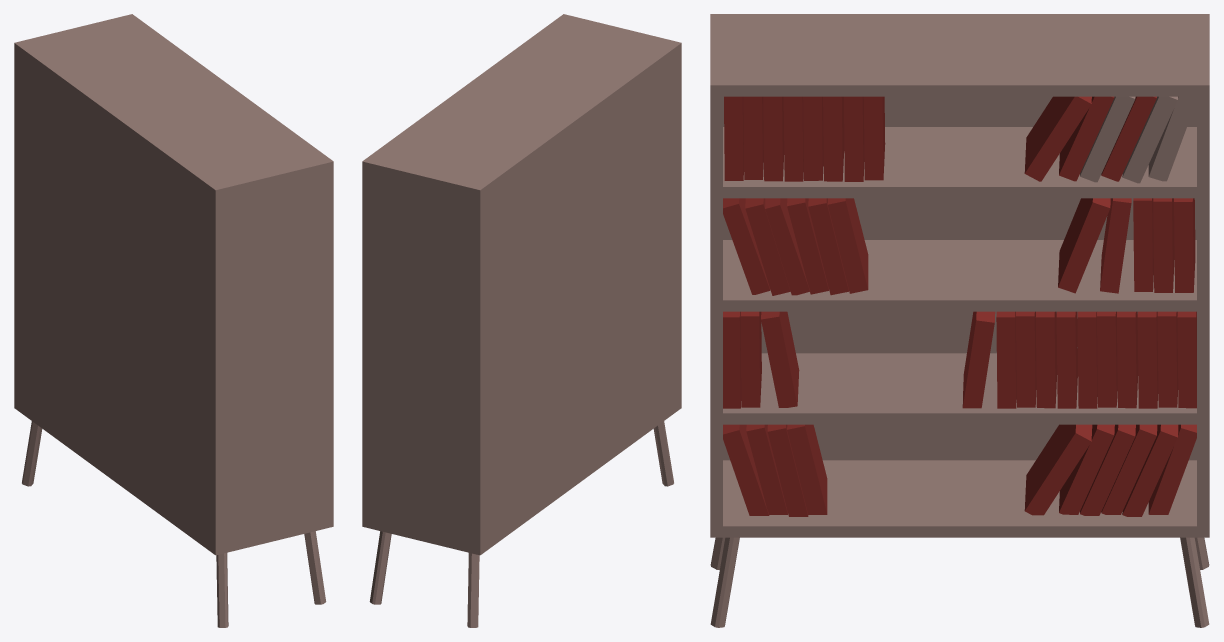
The model's file is BookShelf.fbx.
3 views of the same model, side by side, from view 1: azimuth 30°, elevation 25°; view 2: azimuth 150°, elevation 25°; view 3: azimuth 270°, elevation 25° (orthographic). The views are drawn at different scales.
Visible parts, largest first — view 1: BookShelf; view 2: BookShelf; view 3: BookShelf.
Boxes of the visible parts, x1,y1,x2,y2 form: BookShelf: (14,14,333,627); BookShelf: (362,14,681,627); BookShelf: (710,14,1209,627).
Bounding box in the file's own units: 78.81 × 233 × 282.
